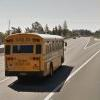Bus: (3, 29, 69, 82)
